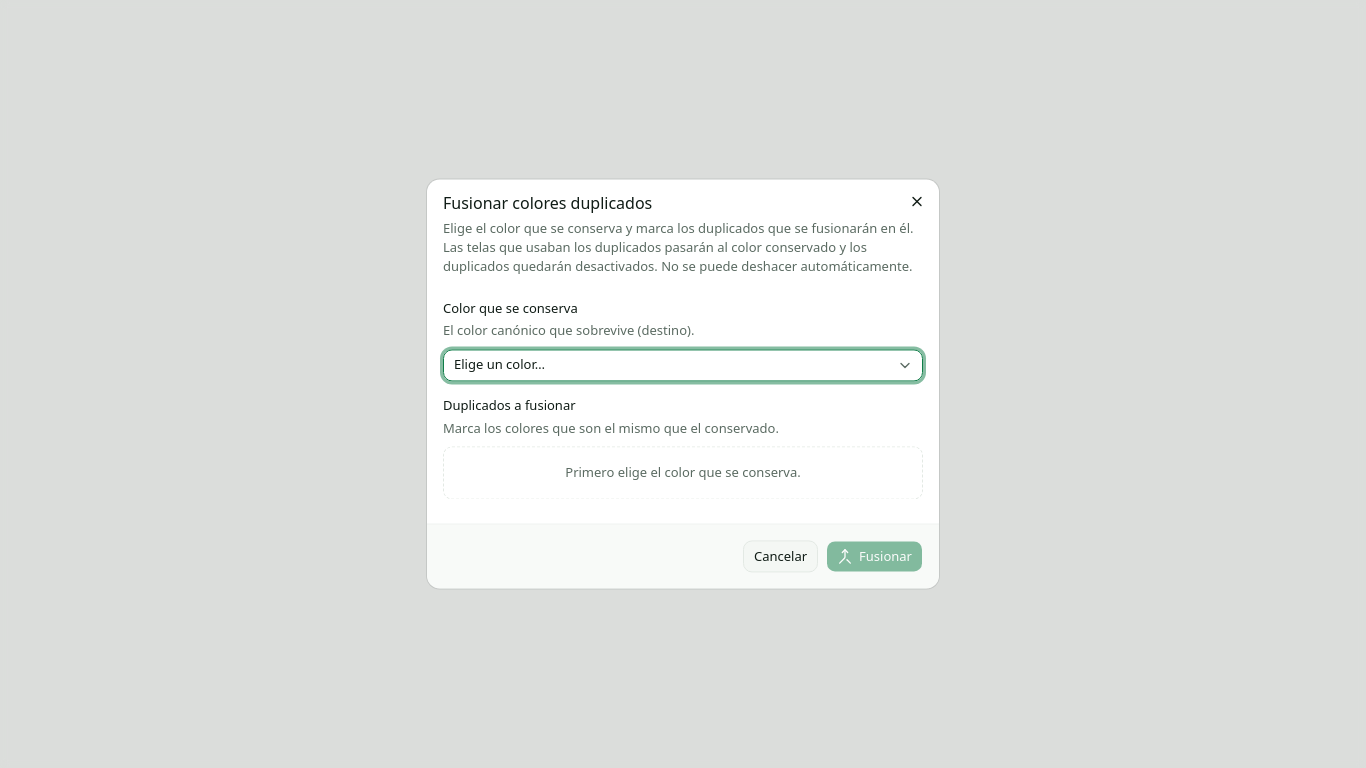
Scenario: <DialogoFusionColores> › exige elegir destino y al menos un duplicado antes de habilitar Fusionar
Expected: the button with test id "confirmar-fusion" is disabled, [826,541,923,573]
Select "Negro" in the dropdown with test id "fusion-destino" at (683, 365), box [443,349,923,381]
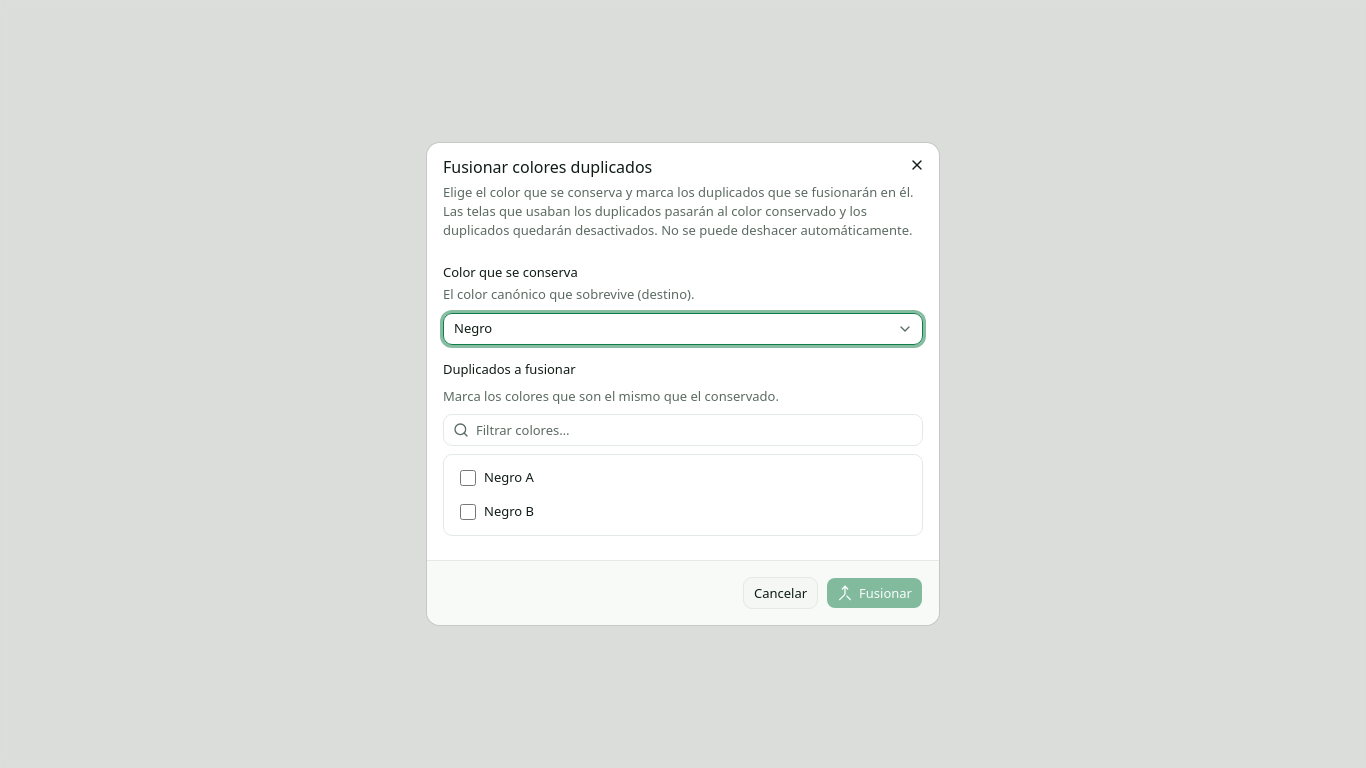
Expected: the button with test id "confirmar-fusion" is disabled, [826,577,923,609]
Now the checkbox with test id "fusion-origen-opcion-2" is shown
Click the checkbox with test id "fusion-origen-opcion-2".
click(468, 478)  # box [460,470,476,486]
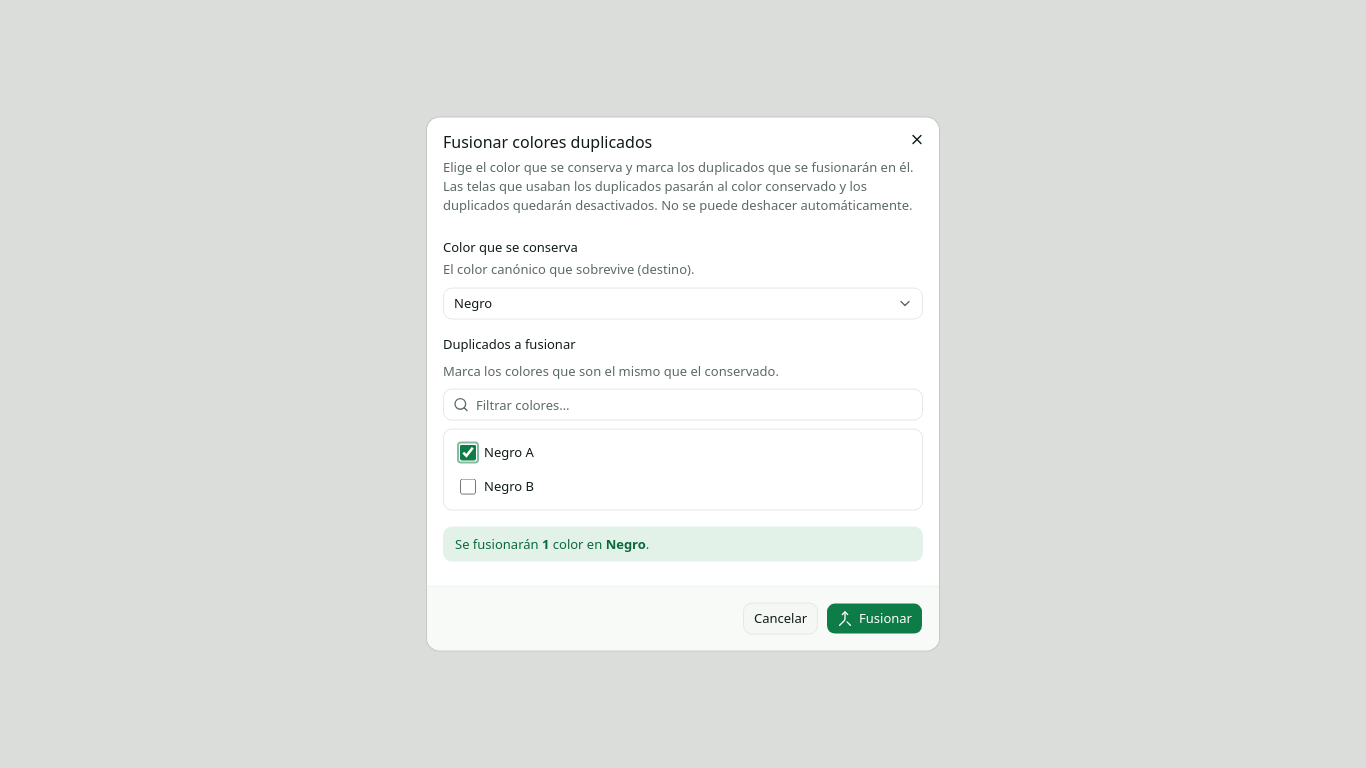
Now the button with test id "confirmar-fusion" is enabled, box [826,602,923,634]
Now the element with test id "fusion-impacto" shows "Negro", box [606,535,646,553]
